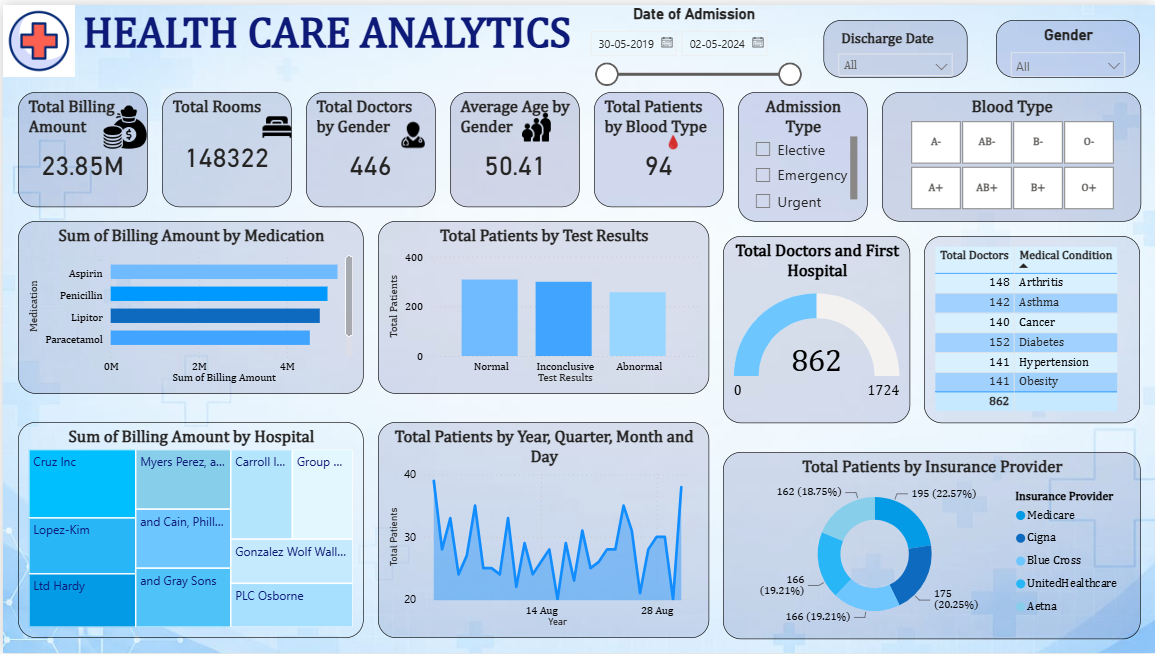

What the dashboard file says about the page in this screenshot:
{"tool":"powerbi","page":{"name":"Page 1","canvas":[1280,720],"ordinal":0},"visuals":[{"type":"textbox","box":[80,0,560,80],"z":0},{"type":"image","box":[0,0,80,80],"z":1000},{"type":"kpi","title":"Total Billing Amount","fields":{"TrendLine":["healthcare_dataset.Date of Admission.Variation.Date Hierarchy.Year"],"Indicator":["Sum(healthcare_dataset.Billing Amount)"]},"box":[16,96,144,128],"z":2000},{"type":"kpi","title":"Total Rooms","fields":{"Indicator":["Sum(healthcare_dataset.Room Number)"],"TrendLine":["healthcare_dataset.Gender"]},"box":[176,96,144,128],"z":3000},{"type":"slicer","title":"Date of Admission","fields":{"Values":["healthcare_dataset.Date of Admission"]},"box":[640,0,256,96],"z":4000},{"type":"kpi","fields":{"TrendLine":["healthcare_dataset.Gender"],"Indicator":["healthcare_dataset.Total Doctors"]},"box":[336,96,144,128],"z":5000},{"type":"slicer","title":"Blood Type ","fields":{"Values":["healthcare_dataset.Blood Type"]},"box":[976,96,288,144],"z":6000},{"type":"image","box":[112,112,48,48],"z":8000},{"type":"image","box":[288,112,32,48],"z":9000},{"type":"image","box":[432,128,48,32],"z":10000},{"type":"kpi","fields":{"Indicator":["healthcare_dataset.Average Age"],"TrendLine":["healthcare_dataset.Gender"]},"box":[496,96,144,128],"z":11000},{"type":"slicer","title":"Gender","fields":{"Values":["healthcare_dataset.Gender"]},"box":[1104,16,160,64],"z":12000},{"type":"image","box":[576,112,32,48],"z":13000},{"type":"treemap","fields":{"Values":["Sum(healthcare_dataset.Billing Amount)"],"Group":["healthcare_dataset.Hospital"]},"box":[16,464,384,240],"z":14000},{"type":"barChart","fields":{"Category":["healthcare_dataset.Medication"],"Y":["Sum(healthcare_dataset.Billing Amount)"]},"box":[16,240,384,192],"z":15000},{"type":"kpi","fields":{"Indicator":["healthcare_dataset.Total Patients"],"TrendLine":["healthcare_dataset.Blood Type"]},"box":[656,96,144,128],"z":16000},{"type":"image","box":[736,128,16,48],"z":17000},{"type":"slicer","title":"Admission Type","fields":{"Values":["healthcare_dataset.Admission Type"]},"box":[816,96,144,144],"z":18000},{"type":"stackedAreaChart","fields":{"Category":["healthcare_dataset.Date of Admission.Variation.Date Hierarchy.Year","healthcare_dataset.Date of Admission.Variation.Date Hierarchy.Quarter","healthcare_dataset.Date of Admission.Variation.Date Hierarchy.Month","healthcare_dataset.Date of Admission.Variation.Date Hierarchy.Day"],"Y":["healthcare_dataset.Total Patients"]},"box":[416,464,368,240],"z":19000},{"type":"clusteredColumnChart","fields":{"Category":["healthcare_dataset.Test Results"],"Y":["healthcare_dataset.Total Patients"]},"box":[416,240,368,192],"z":20000},{"type":"gauge","fields":{"Y":["healthcare_dataset.Total Doctors"]},"box":[800,256,208,208],"z":21000},{"type":"donutChart","fields":{"Y":["healthcare_dataset.Total Patients"],"Category":["healthcare_dataset.Insurance Provider"]},"box":[800,496,464,208],"z":22000},{"type":"tableEx","fields":{"Values":["healthcare_dataset.Total Doctors","healthcare_dataset.Medical Condition"]},"box":[1024,256,240,208],"z":23000},{"type":"slicer","fields":{"Values":["healthcare_dataset.Discharge Date"]},"box":[912,16,160,64],"z":23001}]}

Visuals, with their boxes in screenshot pixels (x1, y1, x2, y2), scaled from the page's 1280x720 canvas onto the 1155x654 screenshot:
textbox: (left=72, top=0, right=578, bottom=73)
image: (left=0, top=0, right=72, bottom=73)
"Total Billing Amount" kpi: (left=14, top=87, right=144, bottom=203)
"Total Rooms" kpi: (left=159, top=87, right=289, bottom=203)
"Date of Admission" slicer: (left=578, top=0, right=808, bottom=87)
kpi - healthcare_dataset.Gender x healthcare_dataset.Total Doctors: (left=303, top=87, right=433, bottom=203)
"Blood Type " slicer: (left=881, top=87, right=1141, bottom=218)
image: (left=101, top=102, right=144, bottom=145)
image: (left=260, top=102, right=289, bottom=145)
image: (left=390, top=116, right=433, bottom=145)
kpi - healthcare_dataset.Average Age x healthcare_dataset.Gender: (left=448, top=87, right=578, bottom=203)
"Gender" slicer: (left=996, top=15, right=1141, bottom=73)
image: (left=520, top=102, right=549, bottom=145)
treemap - Sum(healthcare_dataset.Billing Amount) x healthcare_dataset.Hospital: (left=14, top=421, right=361, bottom=639)
barChart - healthcare_dataset.Medication x Sum(healthcare_dataset.Billing Amount): (left=14, top=218, right=361, bottom=392)
kpi - healthcare_dataset.Total Patients x healthcare_dataset.Blood Type: (left=592, top=87, right=722, bottom=203)
image: (left=664, top=116, right=679, bottom=160)
"Admission Type" slicer: (left=736, top=87, right=866, bottom=218)
stackedAreaChart - healthcare_dataset.Date of Admission.Variation.Date Hierarchy.Year x healthcare_dataset.Date of Admission.Variation.Date Hierarchy.Quarter: (left=375, top=421, right=707, bottom=639)
clusteredColumnChart - healthcare_dataset.Test Results x healthcare_dataset.Total Patients: (left=375, top=218, right=707, bottom=392)
gauge - healthcare_dataset.Total Doctors: (left=722, top=233, right=910, bottom=421)
donutChart - healthcare_dataset.Total Patients x healthcare_dataset.Insurance Provider: (left=722, top=451, right=1141, bottom=639)
tableEx - healthcare_dataset.Total Doctors x healthcare_dataset.Medical Condition: (left=924, top=233, right=1141, bottom=421)
slicer - healthcare_dataset.Discharge Date: (left=823, top=15, right=967, bottom=73)
